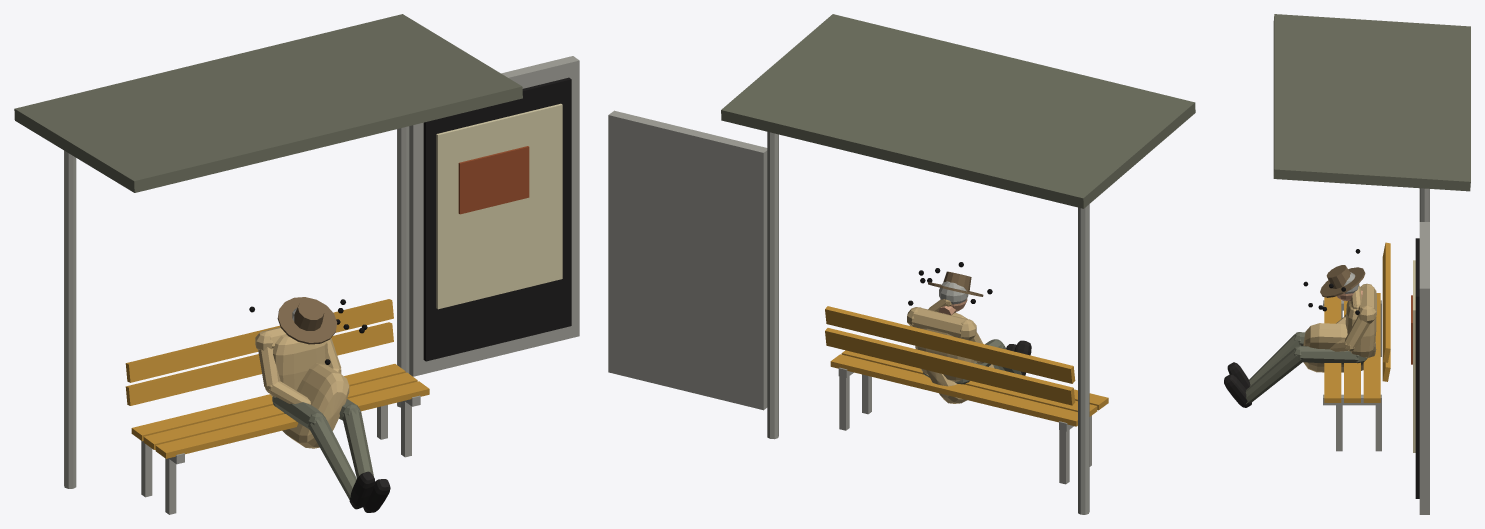
The model's file is bench.glb.
The picture shows the model from 3 angles, left to right: view 1: azimuth 30°, elevation 25°; view 2: azimuth 150°, elevation 25°; view 3: azimuth 270°, elevation 25°; orthographic projection. The views are drawn at different scales.
Visible parts, largest first — view 1: bench; view 2: bench; view 3: bench.
Part boxes in pixels (bbox=[...]): bench: bbox=[14, 14, 579, 514]; bench: bbox=[608, 14, 1195, 514]; bench: bbox=[1224, 14, 1470, 514].
Size of the model in its own units: 3.85 by 2.61 by 1.88.
